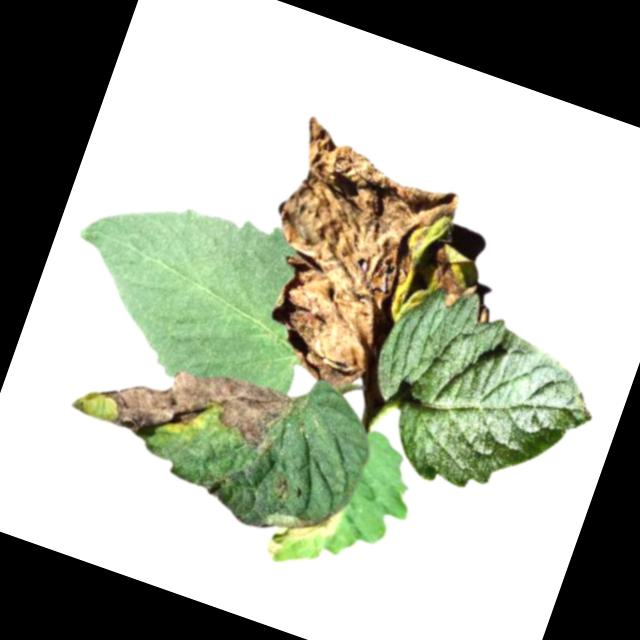Late_blight: (228, 113, 471, 405), (92, 335, 295, 482), (252, 489, 342, 578), (417, 243, 480, 312)
